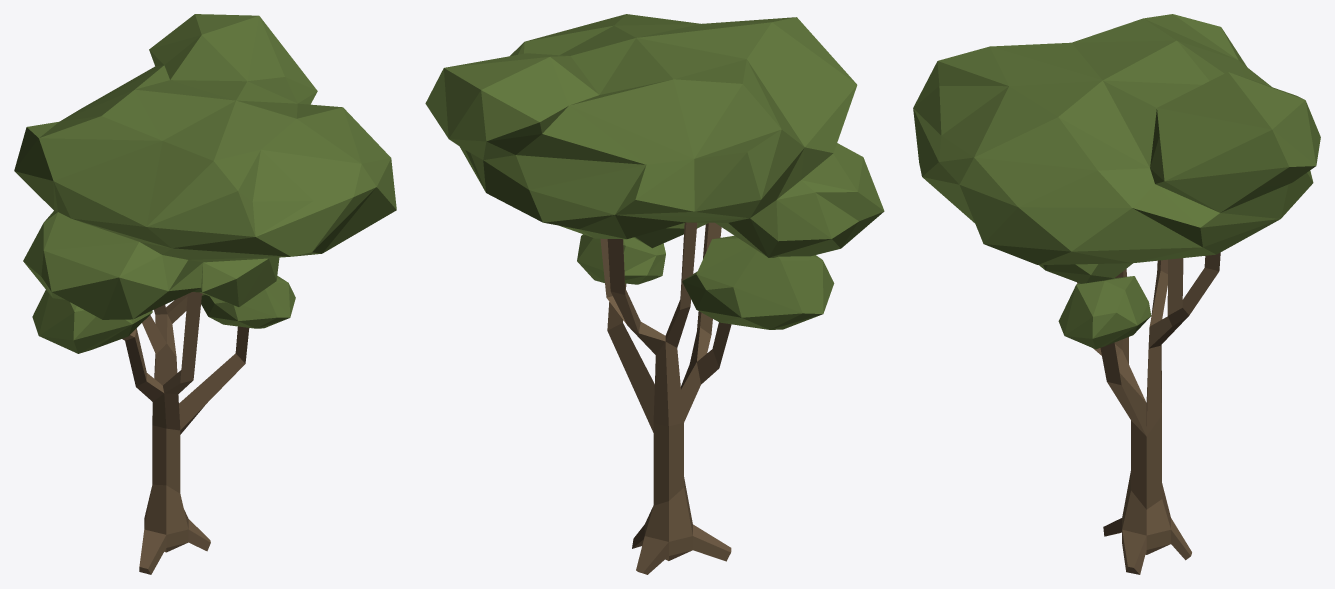
File: SM_Env_Tree_Cherry_01.glb
The picture shows the model from 3 angles, left to right: view 1: azimuth 30°, elevation 25°; view 2: azimuth 150°, elevation 25°; view 3: azimuth 270°, elevation 25°; orthographic projection. The views are drawn at different scales.
Visible parts, largest first — view 1: SM_Env_Tree_Cherry_01; view 2: SM_Env_Tree_Cherry_01; view 3: SM_Env_Tree_Cherry_01.
Part boxes in pixels (x1,y1,x2,y2): SM_Env_Tree_Cherry_01: (14,14,396,574); SM_Env_Tree_Cherry_01: (425,14,884,574); SM_Env_Tree_Cherry_01: (913,14,1320,574).
Size of the model in its own units: 3.29 by 4.34 by 3.07.
Materials: 1 (1 with a texture image).
